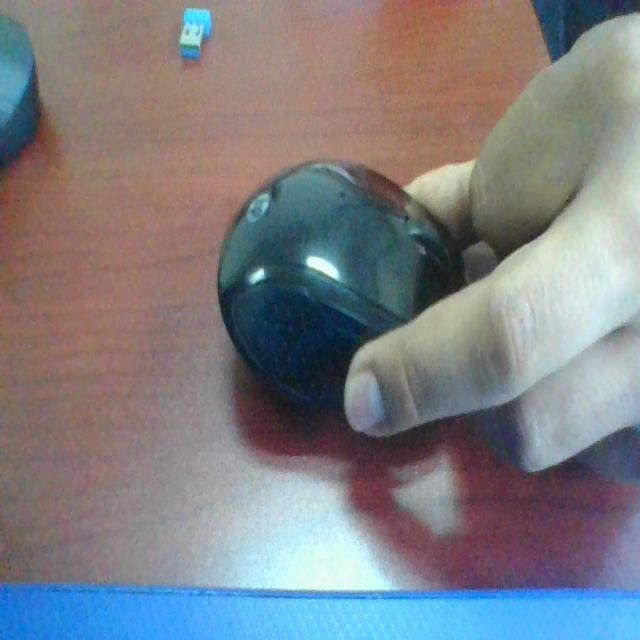mouse: (233, 139, 474, 439)
